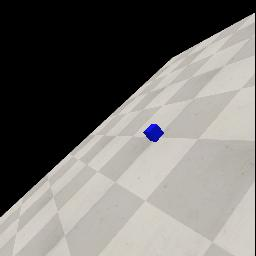box: (143, 124, 164, 142)
